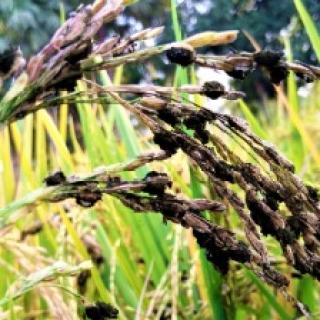Gosong-Palsu: (193, 230, 229, 274), (254, 53, 286, 83), (166, 43, 198, 70), (84, 301, 117, 319), (154, 131, 179, 153)
